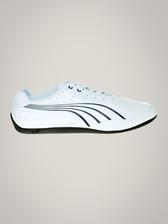shoes: (7, 80, 161, 133)
